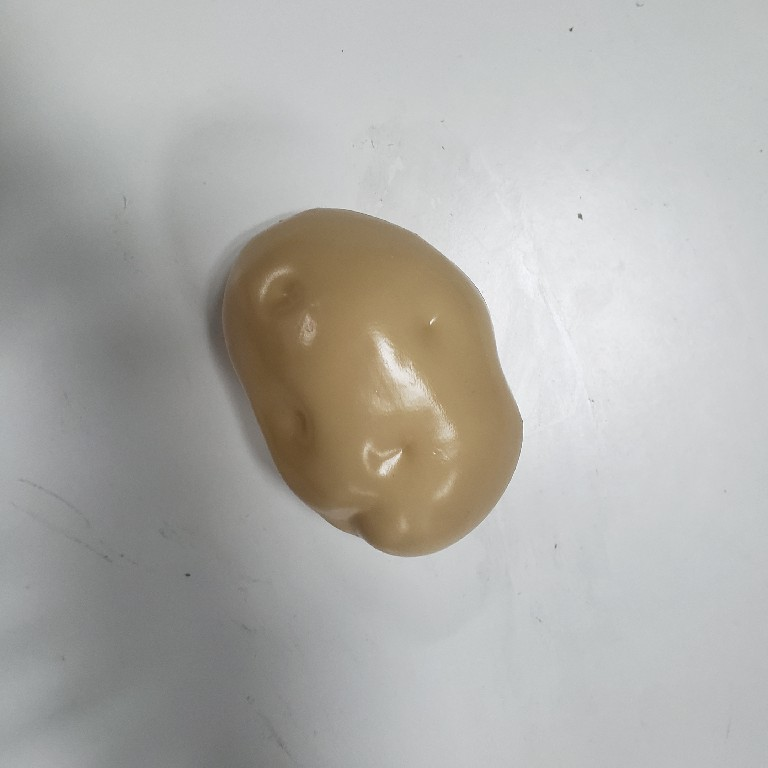fruit_potato: (216, 204, 526, 559)
